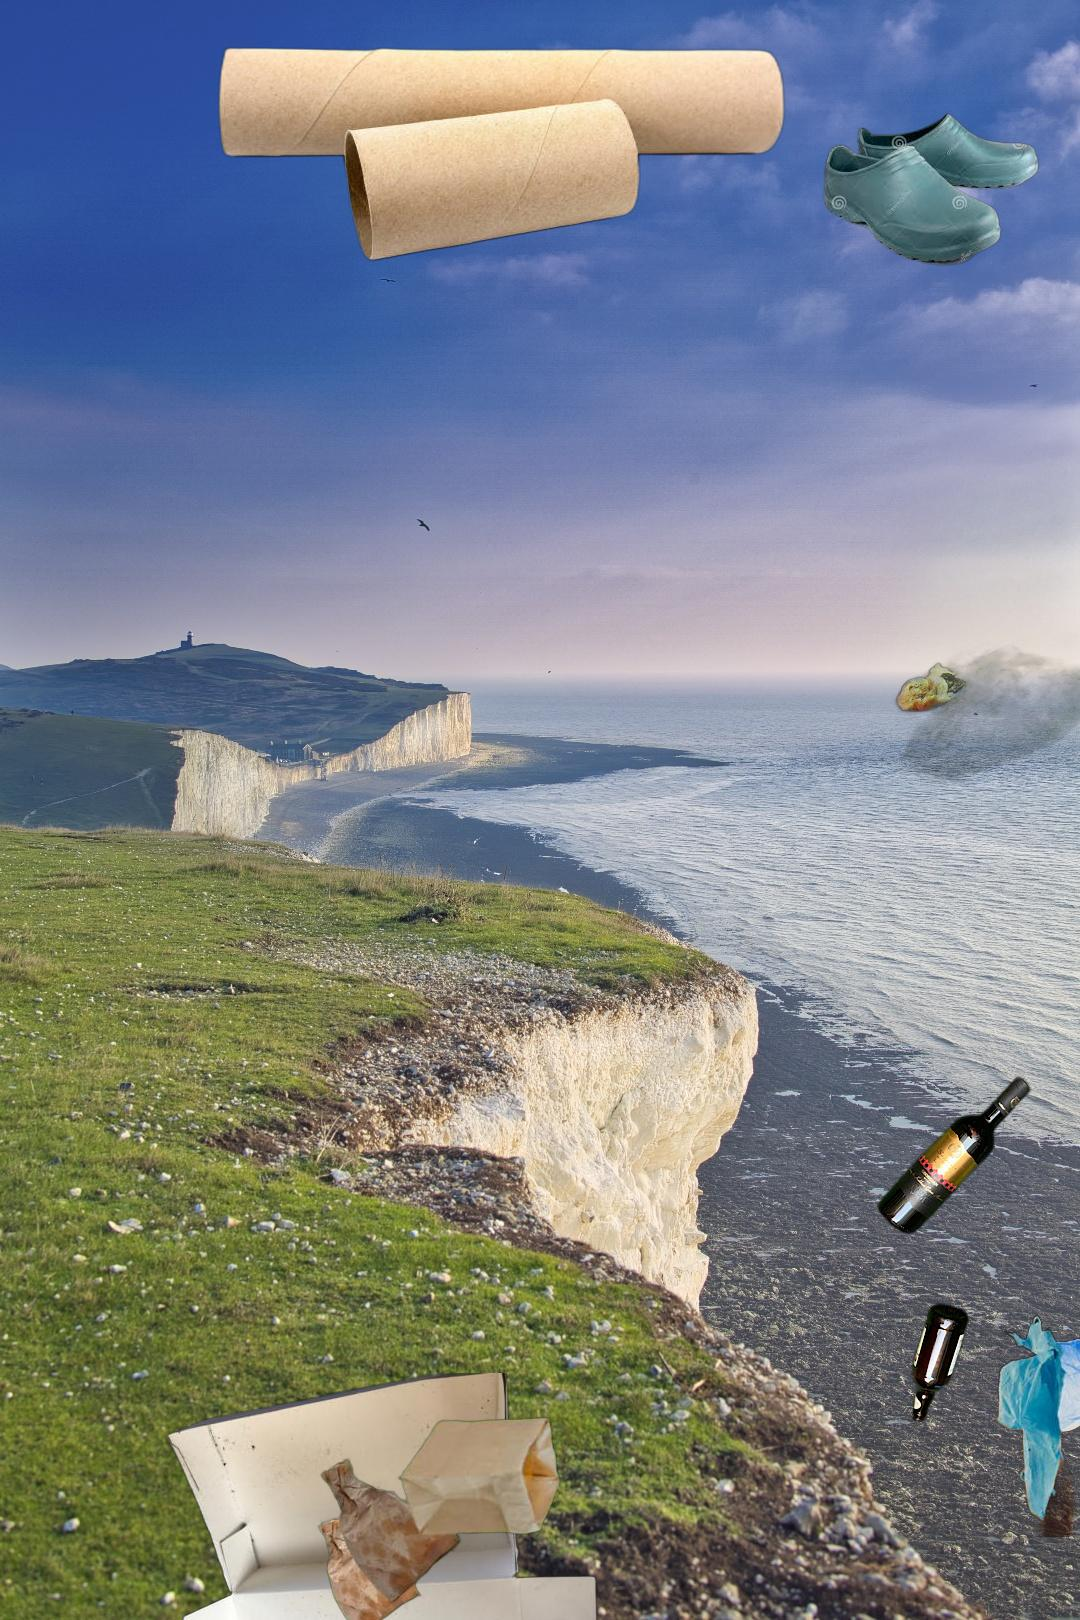biological: (834, 579, 1080, 791)
glass: (874, 1072, 1080, 1427)
paper: (163, 1373, 616, 1620)
paper-bag: (316, 1415, 563, 1620)
plastic-bag: (992, 1313, 1080, 1537)
shoes: (821, 111, 1041, 268)
trashbox-cardboard: (213, 45, 790, 264)
